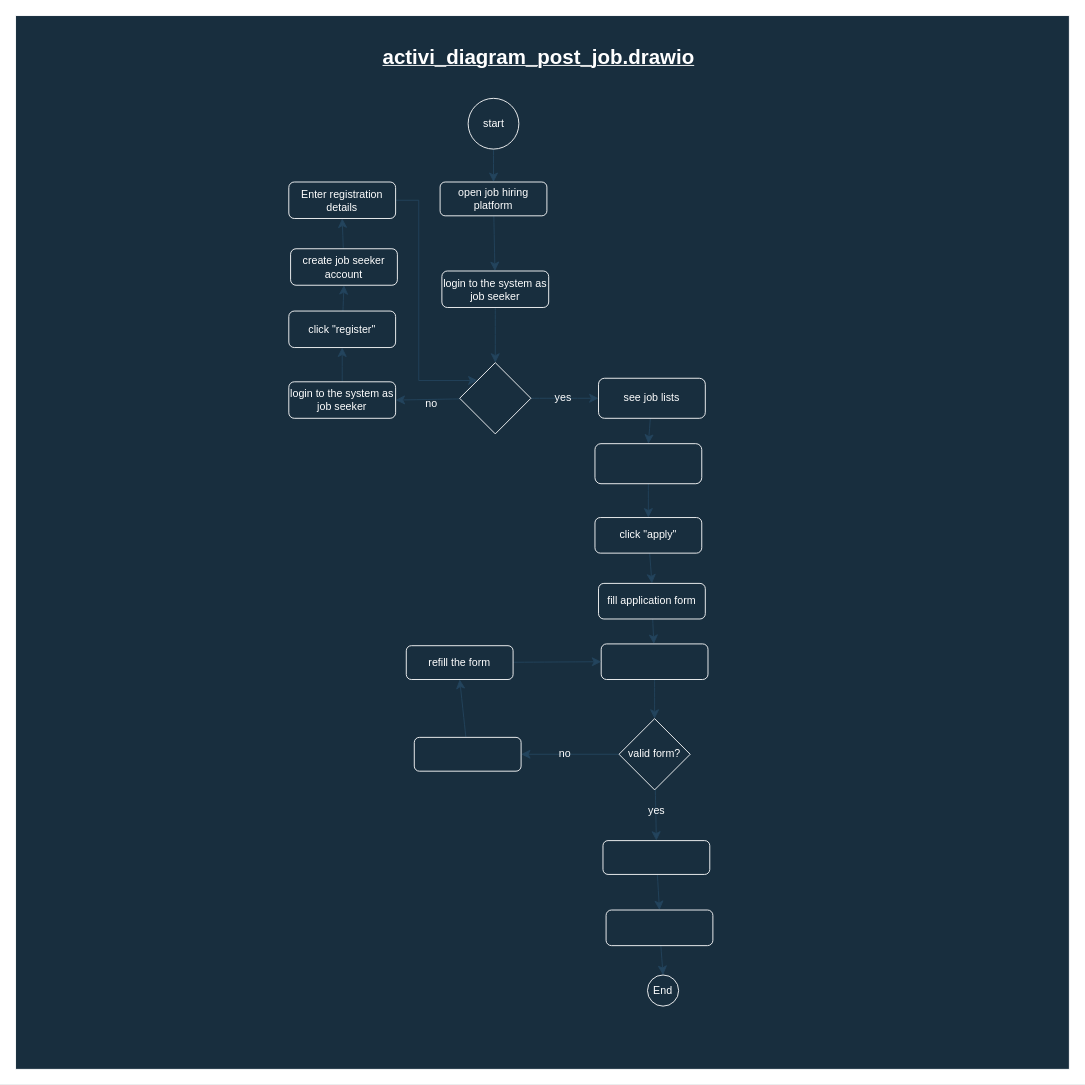
Some shapes in this 1085 by 1085 pixel diagram are drawn without their labels. The box of each missing label's shape, as (x1, y1, x2, y2) in pixels:
application save to database: (602, 840, 710, 874)
Authorized?: (459, 362, 531, 434)
click "submit": (600, 643, 708, 680)
conformation display: (605, 909, 713, 946)
select job: (594, 443, 702, 484)
show error message: (413, 736, 521, 771)
